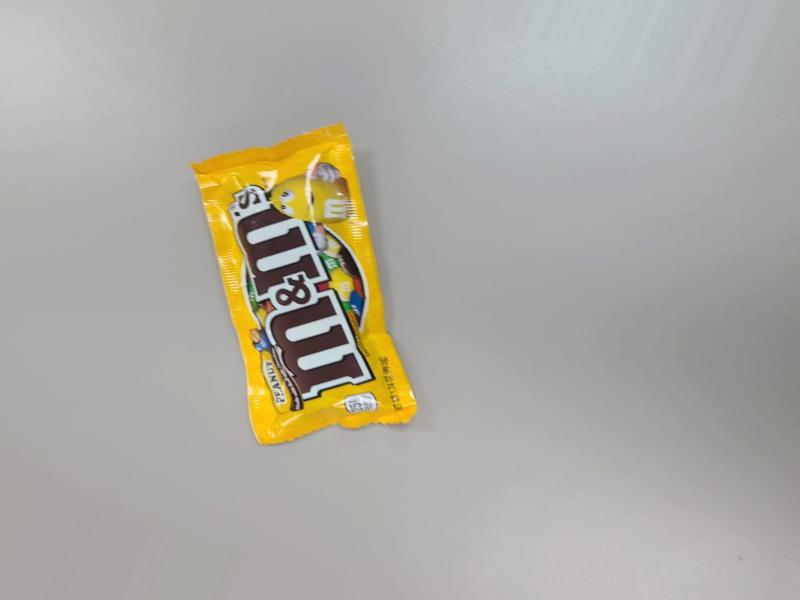m&m: (218, 114, 441, 438)
